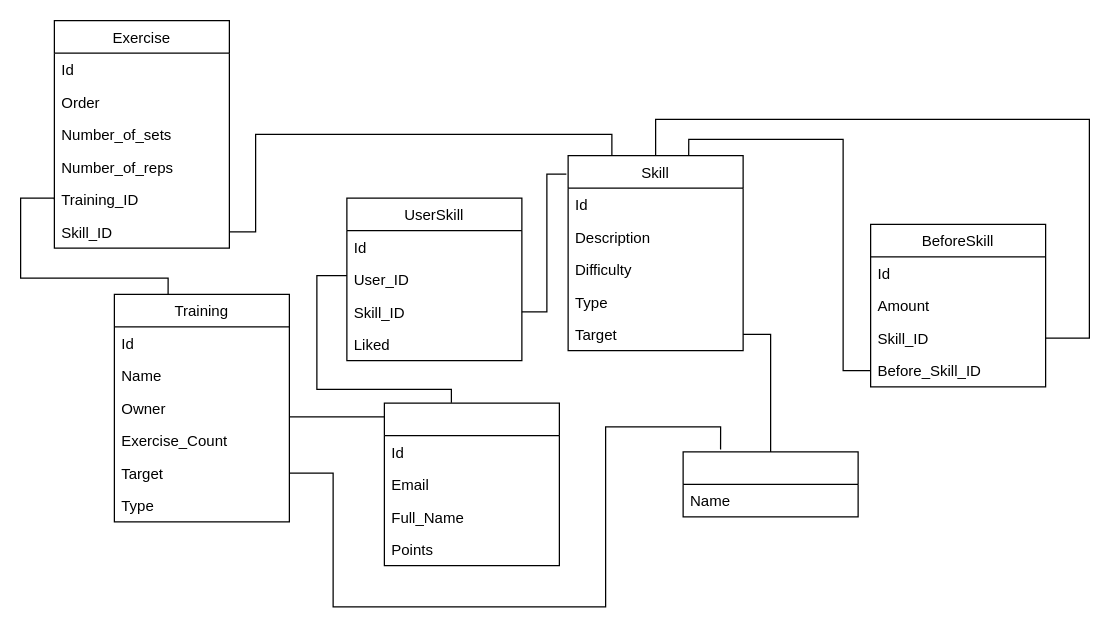
This 1110x628 diagram has some shape labels left out. The shapes that lost their labels are listed below. From the top down, each one's box as (x1, y1, x2, y2) in pixels, then its label:
(383, 402, 559, 566): User
(682, 451, 858, 517): Targeted Muscle
